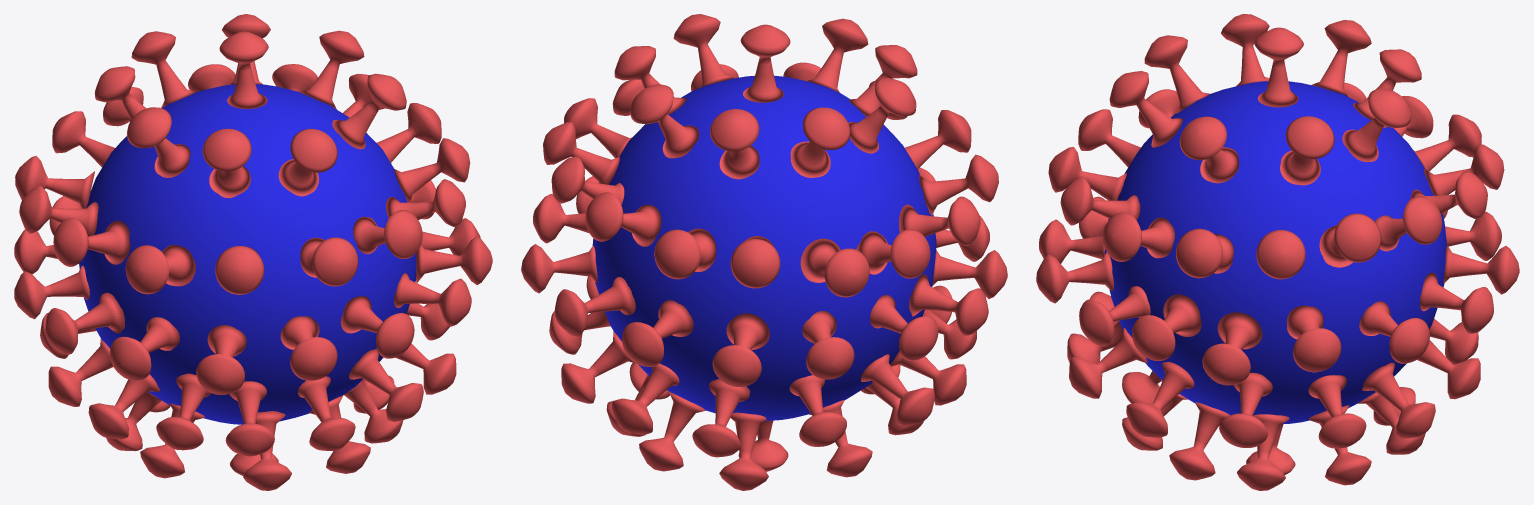
The model's file is CORONA.gltf.
The picture shows the model from 3 angles, left to right: view 1: azimuth 30°, elevation 25°; view 2: azimuth 150°, elevation 25°; view 3: azimuth 270°, elevation 25°; orthographic projection.
Parts seen in each view (by area): view 1: Sphere, Cylinder.010, Cylinder.022, Cylinder.023, Cylinder.011, Cylinder.034, Cylinder.035, Cylinder.021, Cylinder.036, Cylinder.033, Cylinder.032, Cylinder.007 (+36 smaller); view 2: Sphere, Cylinder.013, Cylinder.027, Cylinder.020, Cylinder.019, Cylinder.002, Cylinder.028, Cylinder.012, Cylinder.001, Cylinder.018, Cylinder.026, Cylinder.029 (+33 smaller); view 3: Sphere, Cylinder.038, Cylinder.052, Cylinder.017, Cylinder.016, Cylinder.031, Cylinder.006, Cylinder.004, Cylinder.018, Cylinder.030, Cylinder.050, Cylinder.051 (+37 smaller).
Part boxes in pixels (bbox=[...]): Sphere: bbox=[79, 84, 416, 424]; Cylinder.010: bbox=[125, 245, 195, 294]; Cylinder.022: bbox=[202, 128, 251, 197]; Cylinder.023: bbox=[278, 128, 337, 196]; Cylinder.011: bbox=[53, 217, 130, 266]; Cylinder.034: bbox=[196, 325, 246, 394]; Cylinder.035: bbox=[280, 316, 337, 380]; Cylinder.021: bbox=[127, 107, 190, 177]; Cylinder.036: bbox=[340, 296, 414, 358]; Cylinder.033: bbox=[110, 317, 179, 380]; Cylinder.032: bbox=[45, 292, 124, 354]; Cylinder.007: bbox=[353, 210, 422, 258]; Sphere: bbox=[592, 75, 936, 420]; Cylinder.013: bbox=[800, 238, 869, 297]; Cylinder.027: bbox=[712, 313, 769, 386]; Cylinder.020: bbox=[790, 107, 850, 177]; Cylinder.019: bbox=[710, 109, 759, 179]; Cylinder.002: bbox=[585, 192, 661, 246]; Cylinder.028: bbox=[622, 300, 693, 366]; Cylinder.012: bbox=[856, 229, 930, 278]; Cylinder.001: bbox=[654, 228, 716, 279]; Cylinder.018: bbox=[630, 84, 699, 158]; Cylinder.026: bbox=[802, 311, 854, 379]; Cylinder.029: bbox=[554, 277, 635, 336]; Sphere: bbox=[1104, 81, 1446, 424]; Cylinder.038: bbox=[1202, 312, 1262, 385]; Cylinder.052: bbox=[1132, 294, 1201, 360]; Cylinder.017: bbox=[1280, 116, 1334, 185]; Cylinder.016: bbox=[1179, 116, 1239, 183]; Cylinder.031: bbox=[1287, 305, 1341, 372]; Cylinder.006: bbox=[1103, 212, 1174, 261]; Cylinder.004: bbox=[1319, 213, 1381, 267]; Cylinder.018: bbox=[1342, 88, 1411, 162]; Cylinder.030: bbox=[1359, 301, 1429, 363]; Cylinder.050: bbox=[1308, 375, 1366, 448]; Cylinder.051: bbox=[1219, 372, 1272, 447].
Size of the model in its own units: 4.2 by 4.27 by 4.21.
